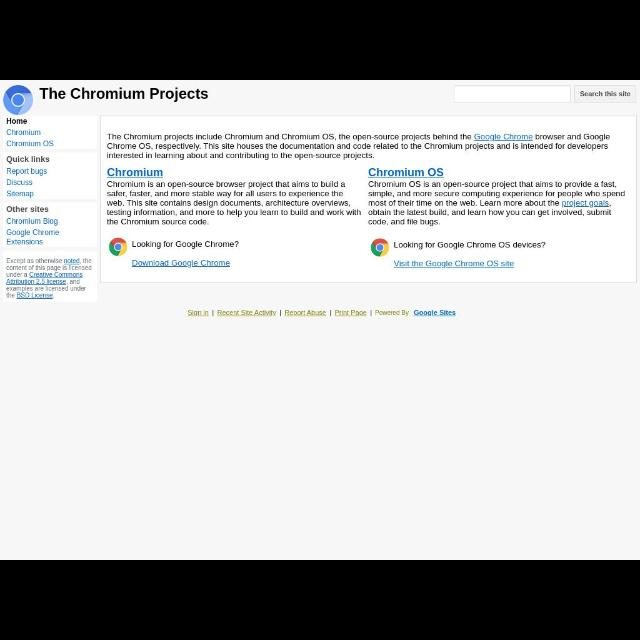image: (4, 86, 34, 116), (110, 238, 128, 256), (371, 238, 389, 256)
input: (454, 86, 570, 102)
link: (392, 259, 516, 269), (368, 167, 444, 179), (132, 260, 230, 268), (106, 167, 164, 179), (7, 278, 67, 286), (474, 134, 534, 142), (562, 200, 610, 208), (413, 309, 457, 317), (28, 272, 84, 278), (16, 292, 54, 300), (64, 258, 80, 264)
text: (108, 132, 610, 160), (368, 180, 626, 226), (106, 180, 362, 226), (7, 258, 93, 300), (40, 87, 208, 103), (186, 309, 410, 317), (131, 240, 239, 248), (6, 229, 59, 237), (6, 218, 58, 226), (5, 140, 54, 148), (6, 156, 49, 164), (7, 168, 47, 176), (6, 205, 50, 212), (6, 238, 44, 244), (6, 130, 42, 136), (7, 180, 33, 187), (7, 190, 33, 197), (6, 118, 28, 124)
textbutton: (575, 86, 637, 104)
